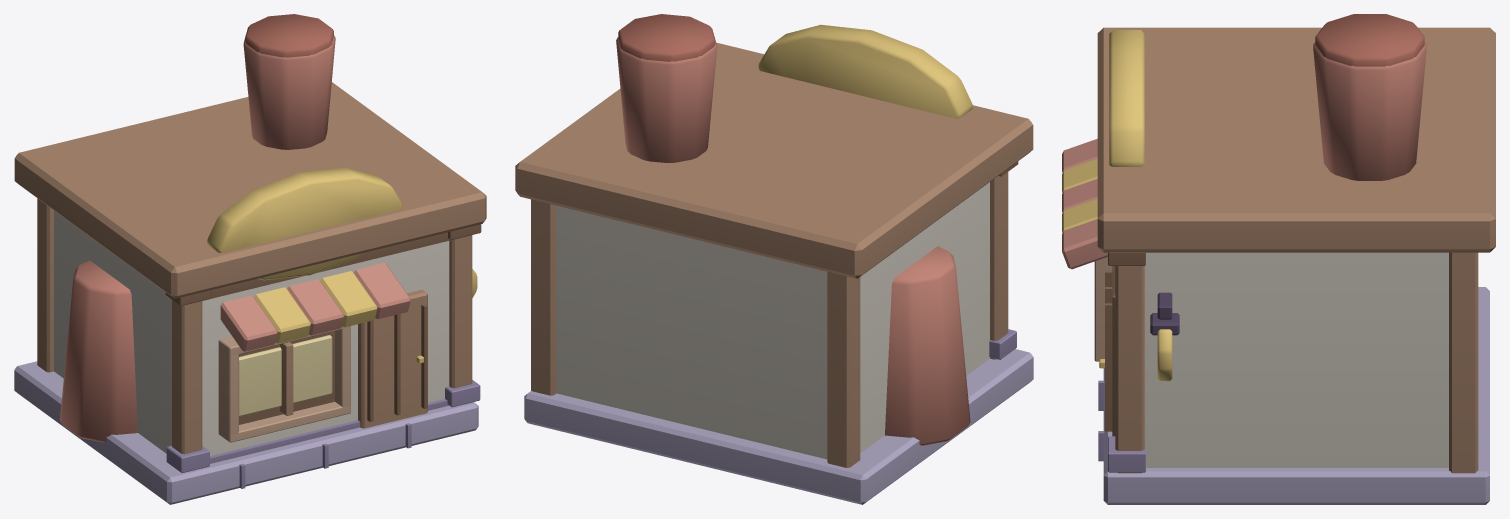
File: bakery.glb
3 views of the same model, side by side, from view 1: azimuth 30°, elevation 25°; view 2: azimuth 150°, elevation 25°; view 3: azimuth 270°, elevation 25° (orthographic). The views are drawn at different scales.
Visible parts, largest first — view 1: bakery; view 2: bakery; view 3: bakery.
Boxes of the visible parts, bbox=[...] form: bakery: bbox=[14, 14, 486, 504]; bakery: bbox=[515, 14, 1033, 504]; bakery: bbox=[1062, 14, 1495, 504].
Bounding box in the file's own units: 1.6 × 1.5 × 1.4.
